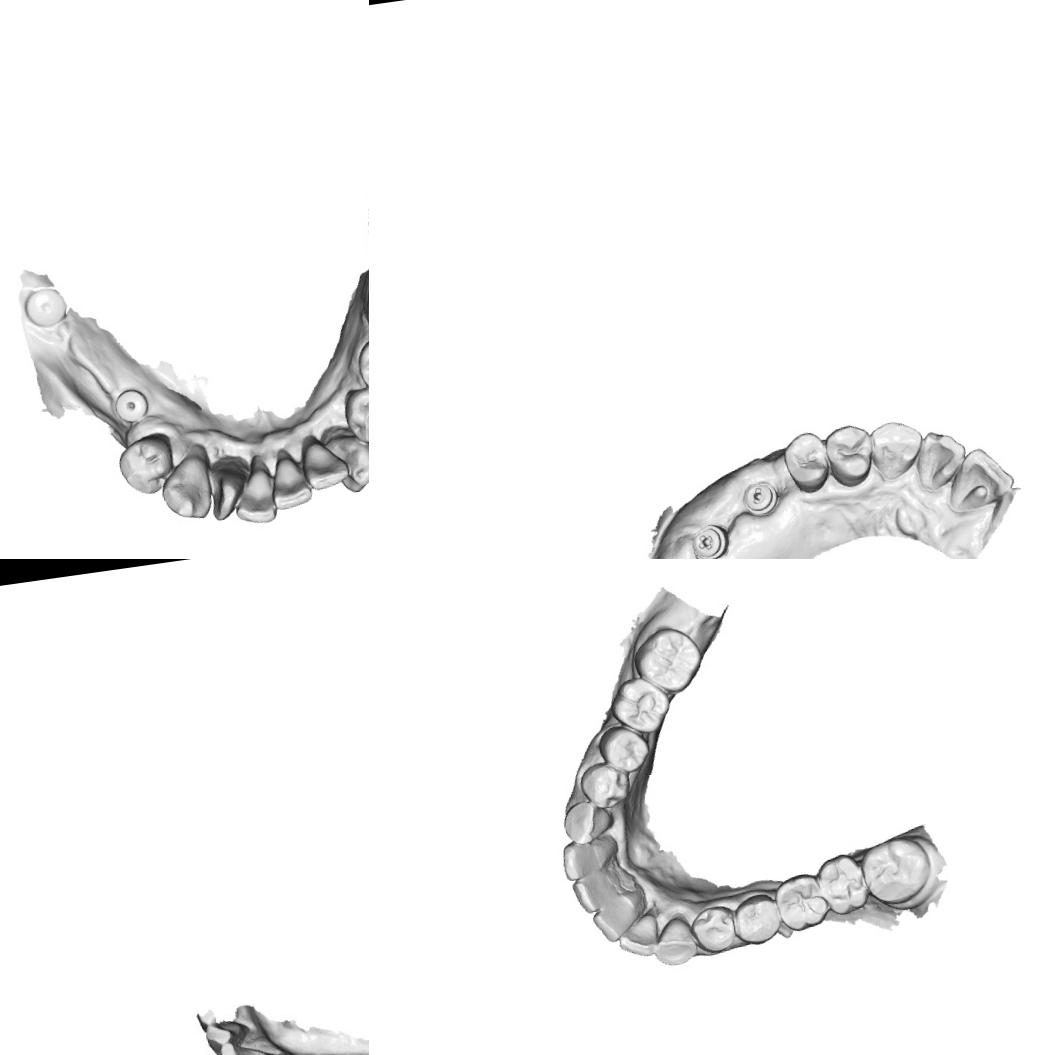canine: (156, 450, 220, 524), (864, 416, 928, 483), (323, 421, 369, 499), (648, 912, 702, 972), (558, 796, 618, 848)
implant: (22, 282, 69, 332), (111, 384, 152, 424)
implant_minus: (738, 477, 782, 520)
implant_plus: (687, 520, 731, 559)
incisor: (940, 442, 1019, 517), (912, 424, 973, 494), (228, 463, 284, 528), (299, 428, 352, 492), (557, 832, 623, 883), (264, 448, 314, 512), (204, 456, 250, 524), (588, 894, 646, 946), (569, 870, 626, 917), (614, 910, 664, 961), (204, 1013, 257, 1055), (223, 1038, 272, 1055)
molar: (628, 620, 708, 700), (858, 830, 934, 910), (605, 672, 676, 742), (814, 850, 874, 918), (773, 868, 830, 934)
premolar: (114, 430, 178, 498), (821, 420, 878, 490), (592, 719, 656, 778), (778, 428, 832, 497), (728, 889, 785, 949), (574, 757, 634, 813), (688, 900, 741, 958), (340, 383, 369, 445), (354, 333, 369, 394)
